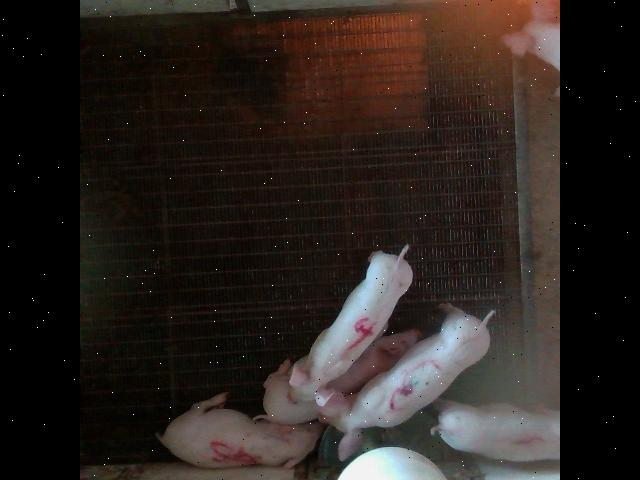pig-1: (431, 400, 558, 459)
pig-3: (320, 304, 490, 458)
pig-4: (288, 244, 412, 405)
pig-5: (156, 391, 324, 468)
